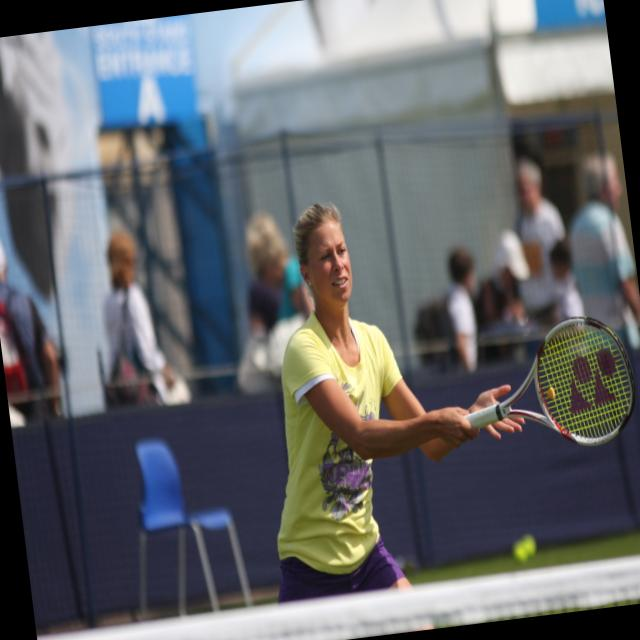Tennis Ball: (522, 530, 537, 556)
